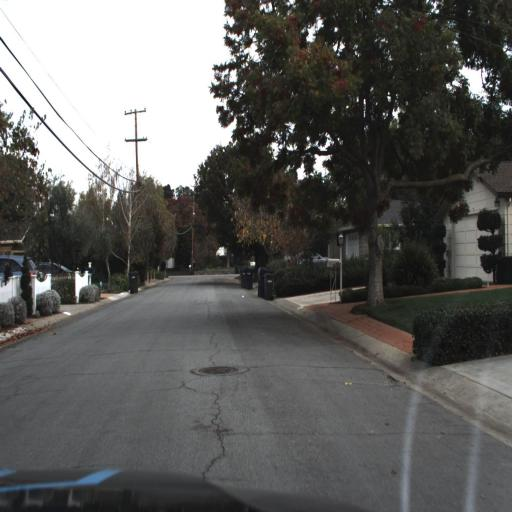car: (36, 258, 78, 294), (300, 246, 340, 276)
